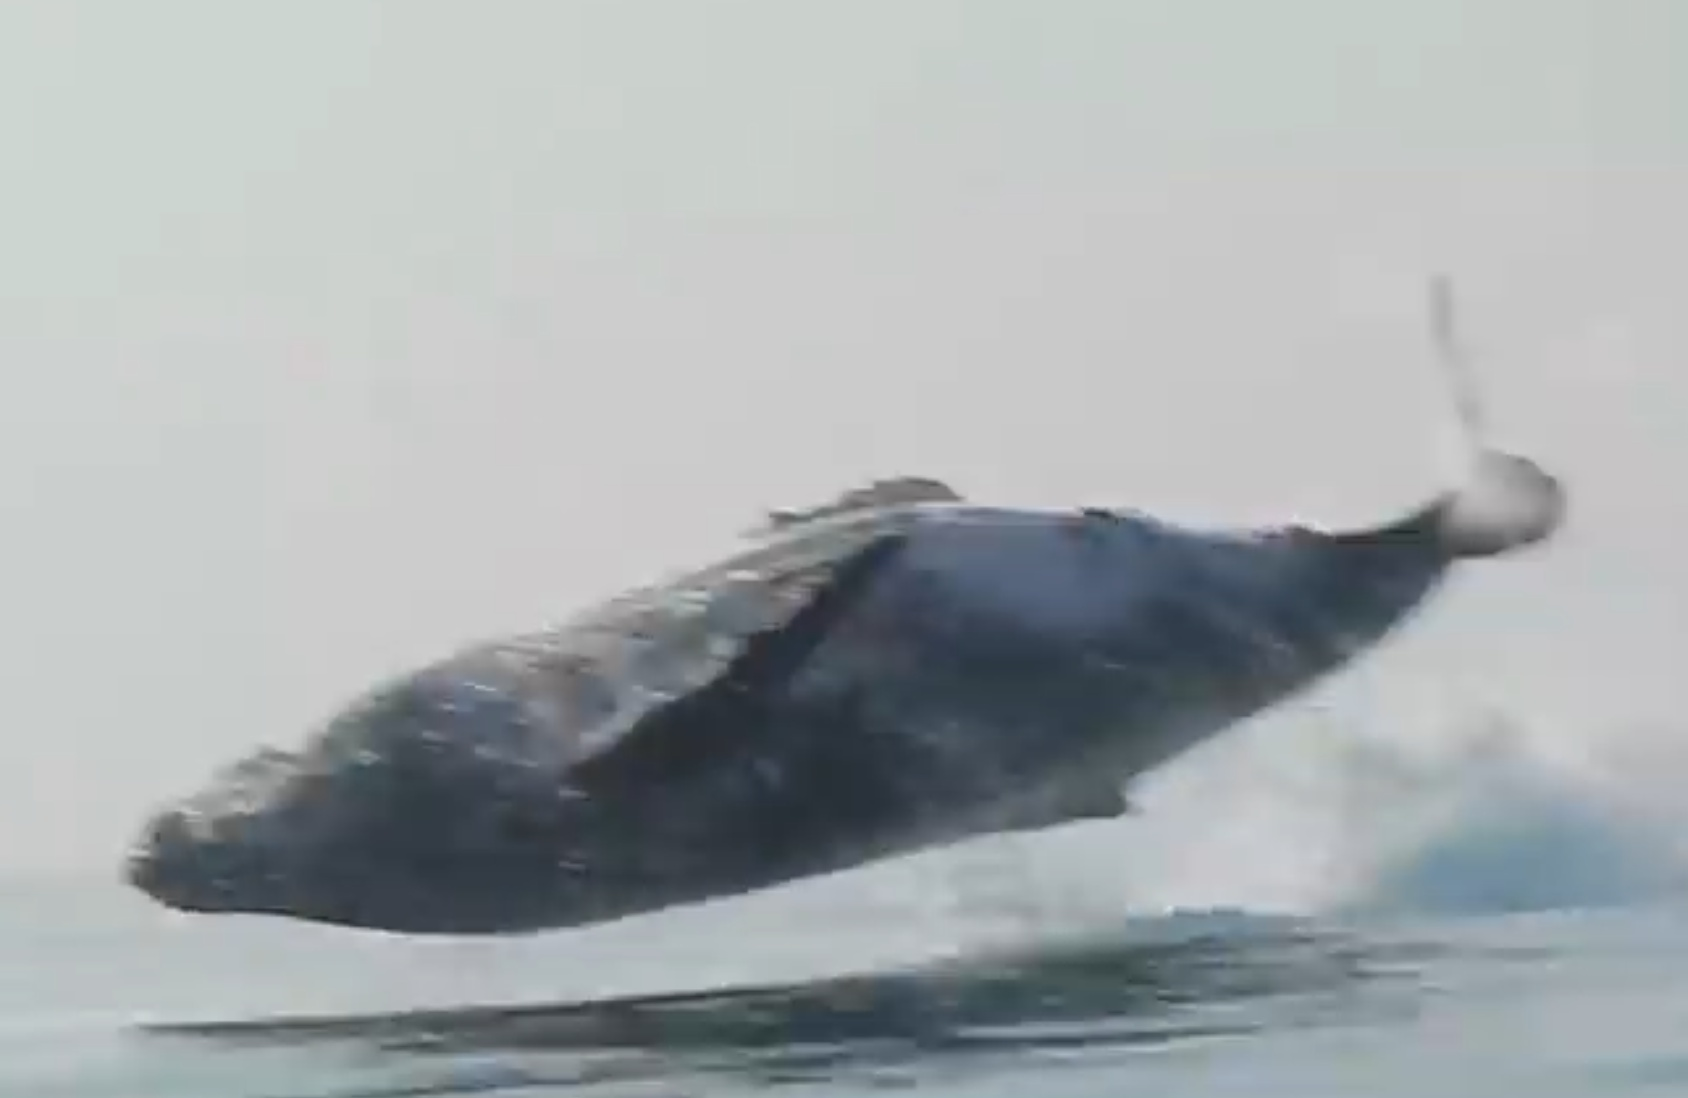humpback: (107, 469, 1565, 940)
